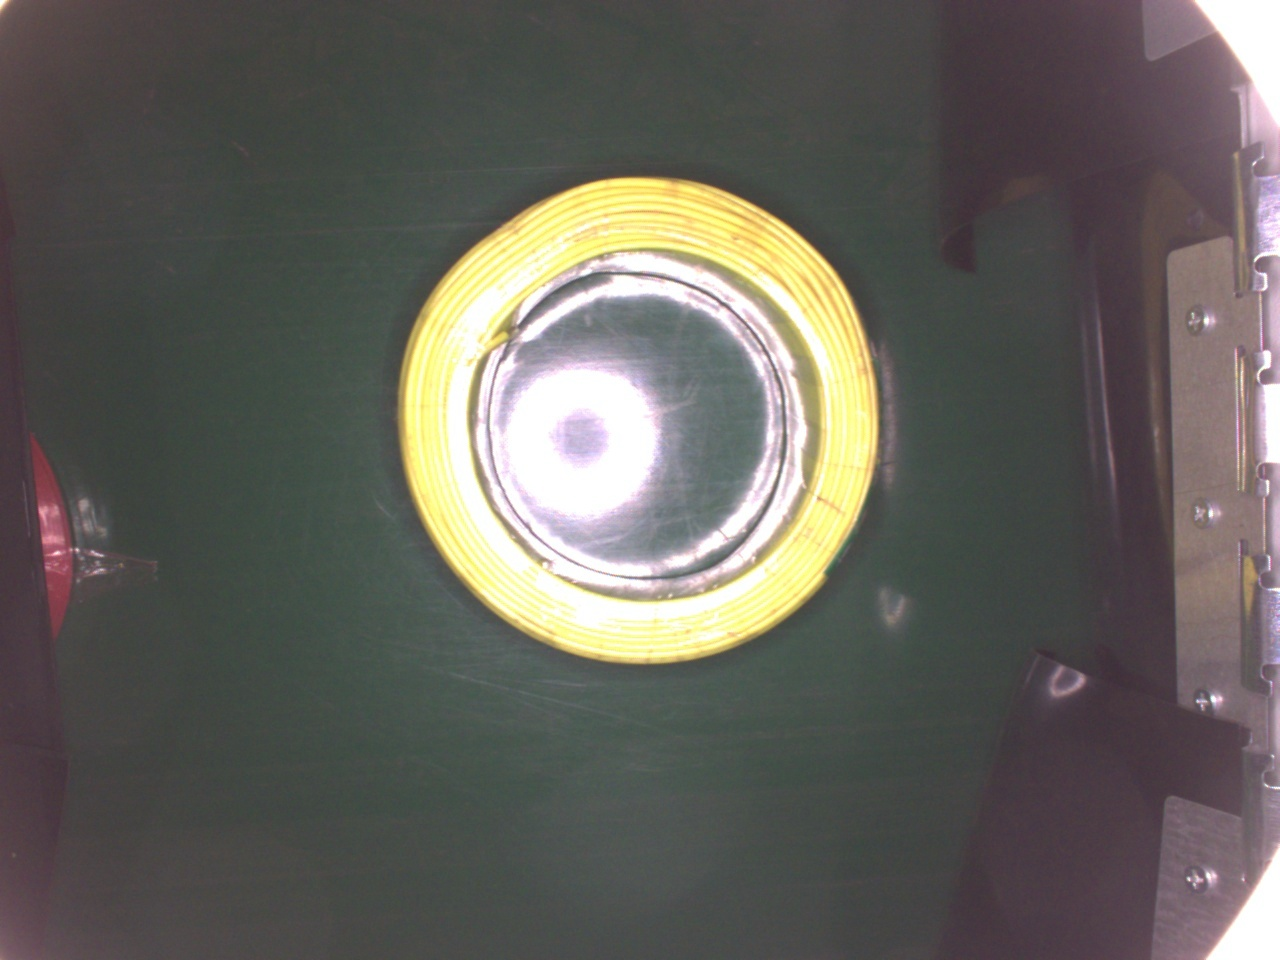yellow: (397, 171, 880, 666)
